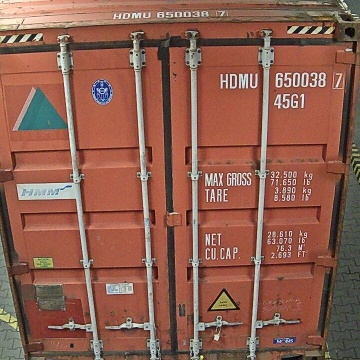serial_id: (220, 71, 344, 88)
